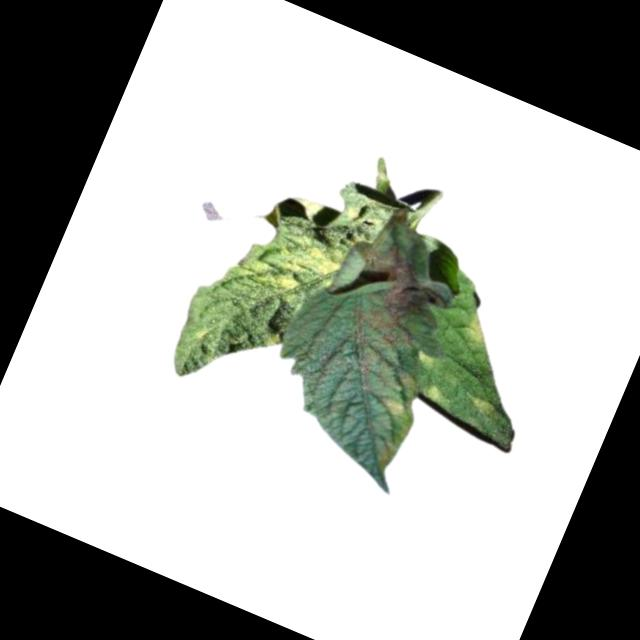Leaf_Mold: (289, 234, 474, 474), (246, 223, 347, 316), (454, 310, 496, 353), (460, 390, 498, 420), (419, 382, 448, 408)
